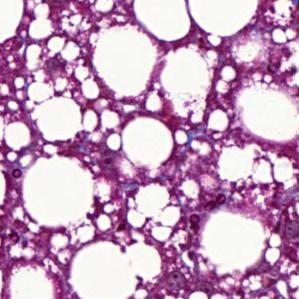steatosis: (15, 158, 97, 226), (90, 25, 155, 91), (120, 117, 179, 164)
